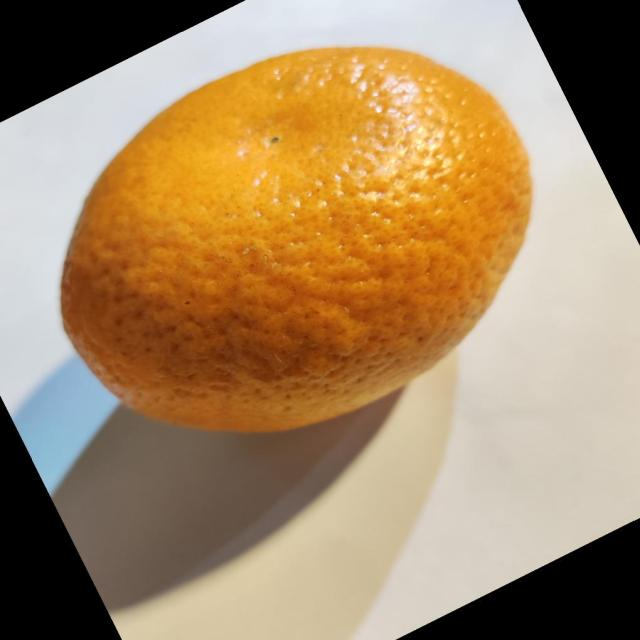fresh orange: (58, 44, 533, 434)
